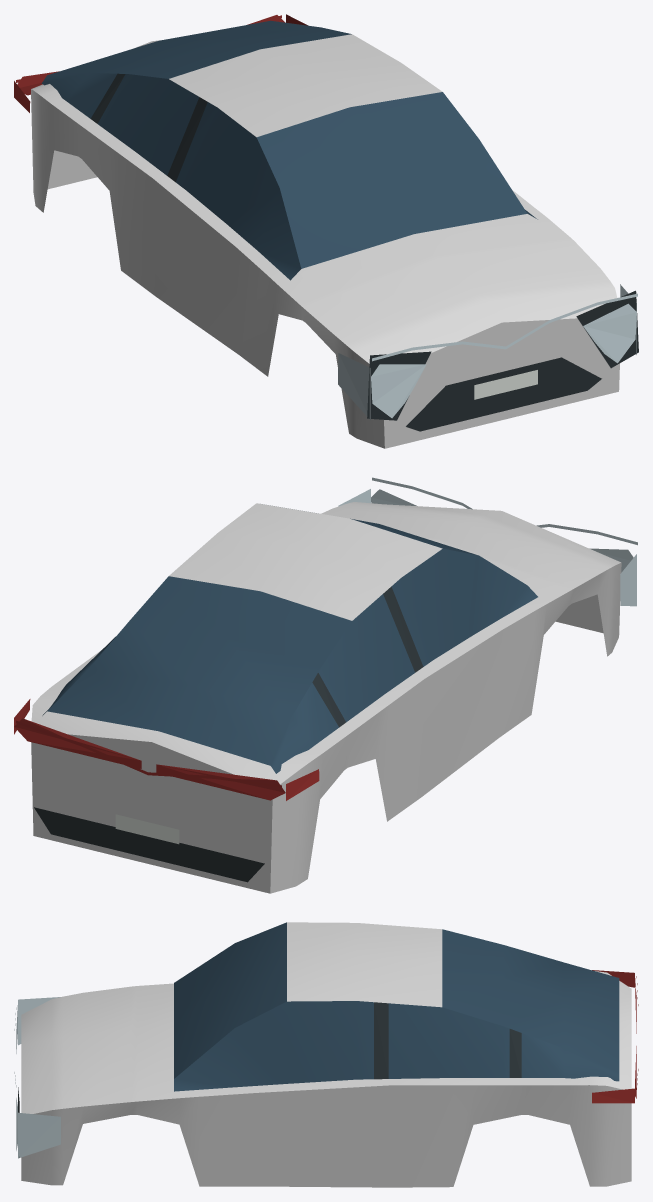
Rendered from veh_vf7-lod2.glb.
3 views of the same model, one above another, from view 1: azimuth 30°, elevation 25°; view 2: azimuth 150°, elevation 25°; view 3: azimuth 270°, elevation 25° (orthographic). The views are drawn at different scales.
Parts seen in each view (by area): view 1: paint, glass, trim, head, plate, tail; view 2: paint, glass, trim, tail, head, plate; view 3: paint, glass, head, trim, tail.
Boxes of the visible parts, x1,y1,x2,y2 form: paint: [31, 34, 619, 448]; glass: [41, 20, 537, 280]; trim: [91, 73, 638, 431]; head: [338, 284, 637, 420]; plate: [474, 370, 537, 399]; tail: [14, 14, 307, 112]; paint: [31, 502, 621, 893]; glass: [42, 518, 537, 773]; trim: [34, 586, 423, 882]; tail: [14, 699, 319, 800]; head: [338, 477, 637, 606]; plate: [115, 814, 179, 844]; paint: [21, 922, 631, 1187]; glass: [174, 922, 619, 1091]; head: [14, 997, 60, 1158]; trim: [18, 1002, 521, 1157]; tail: [592, 970, 638, 1103].
Size of the model in its own units: 1.45 by 0.965 by 3.11.
